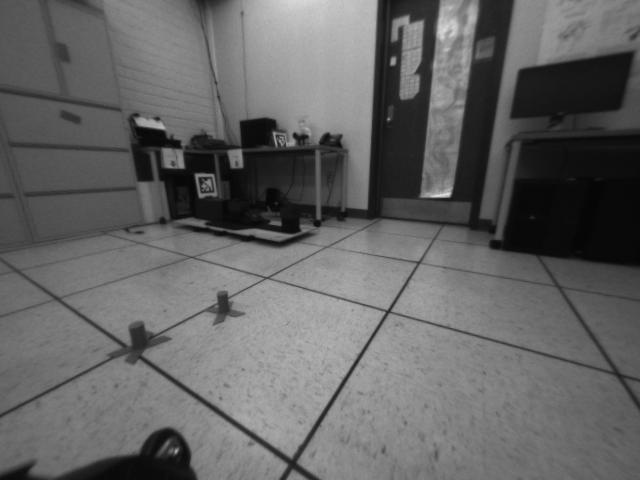X: (102, 320, 174, 364), (204, 287, 245, 326)
